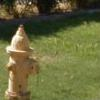Hydrant: (5, 17, 47, 100)
